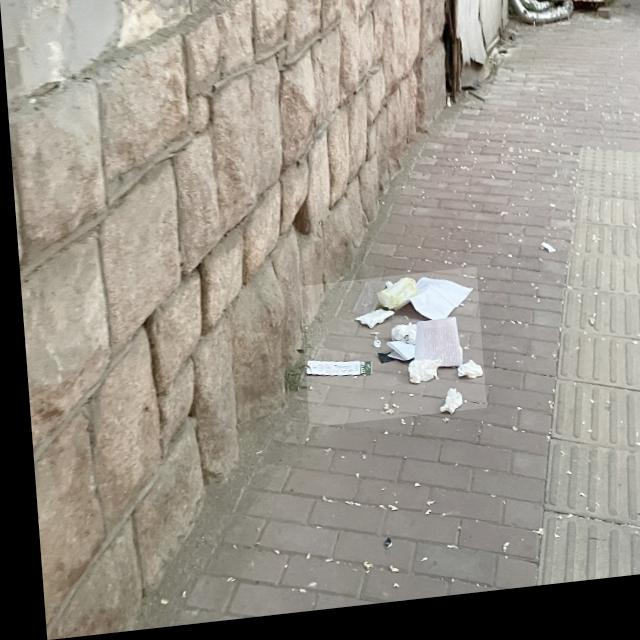garbage: (295, 277, 480, 434)
